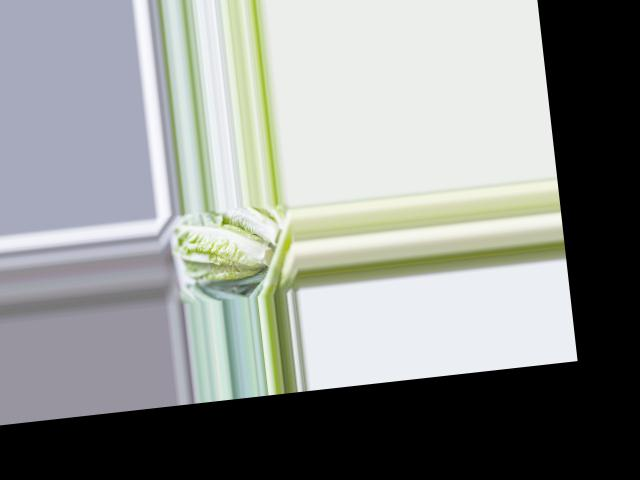lettuce: (171, 214, 276, 287)
